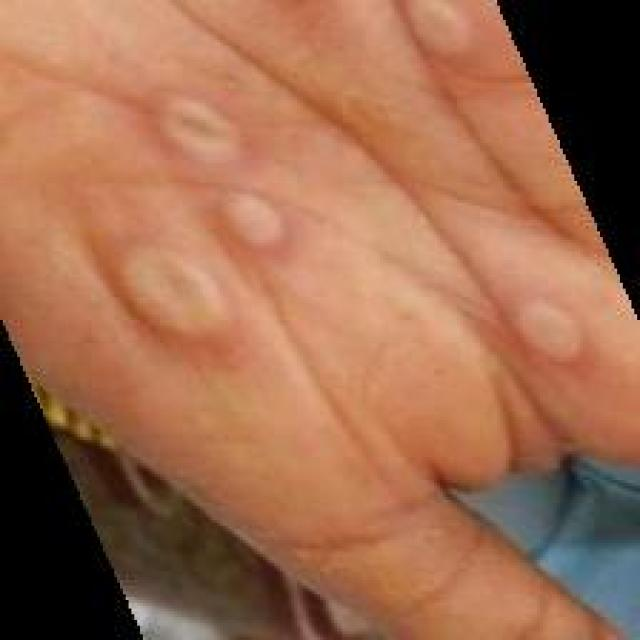monkeypox: (20, 16, 572, 506)
